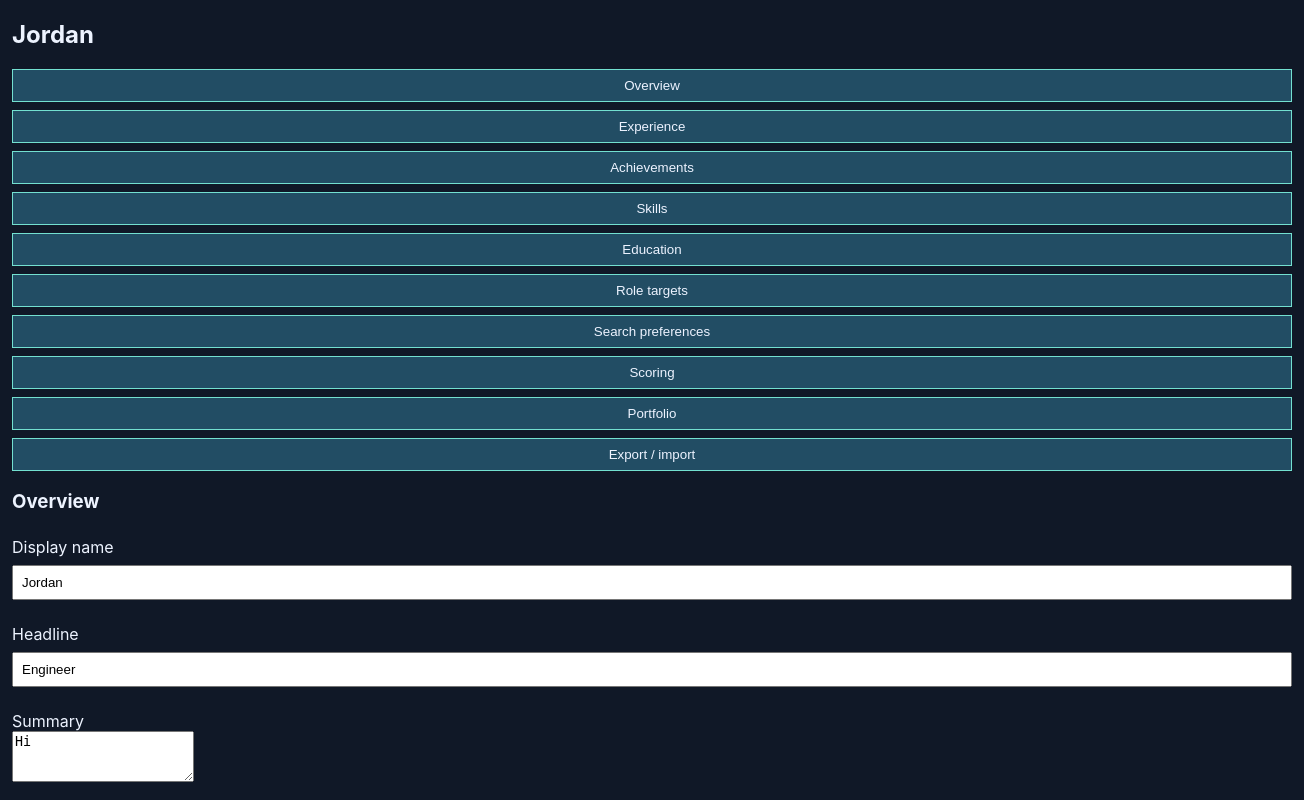
Test: profile editor › scoring errors from the API are shown
Click the tab "Scoring".
click(652, 372)  # box [12, 356, 1292, 389]
(page scrolled)
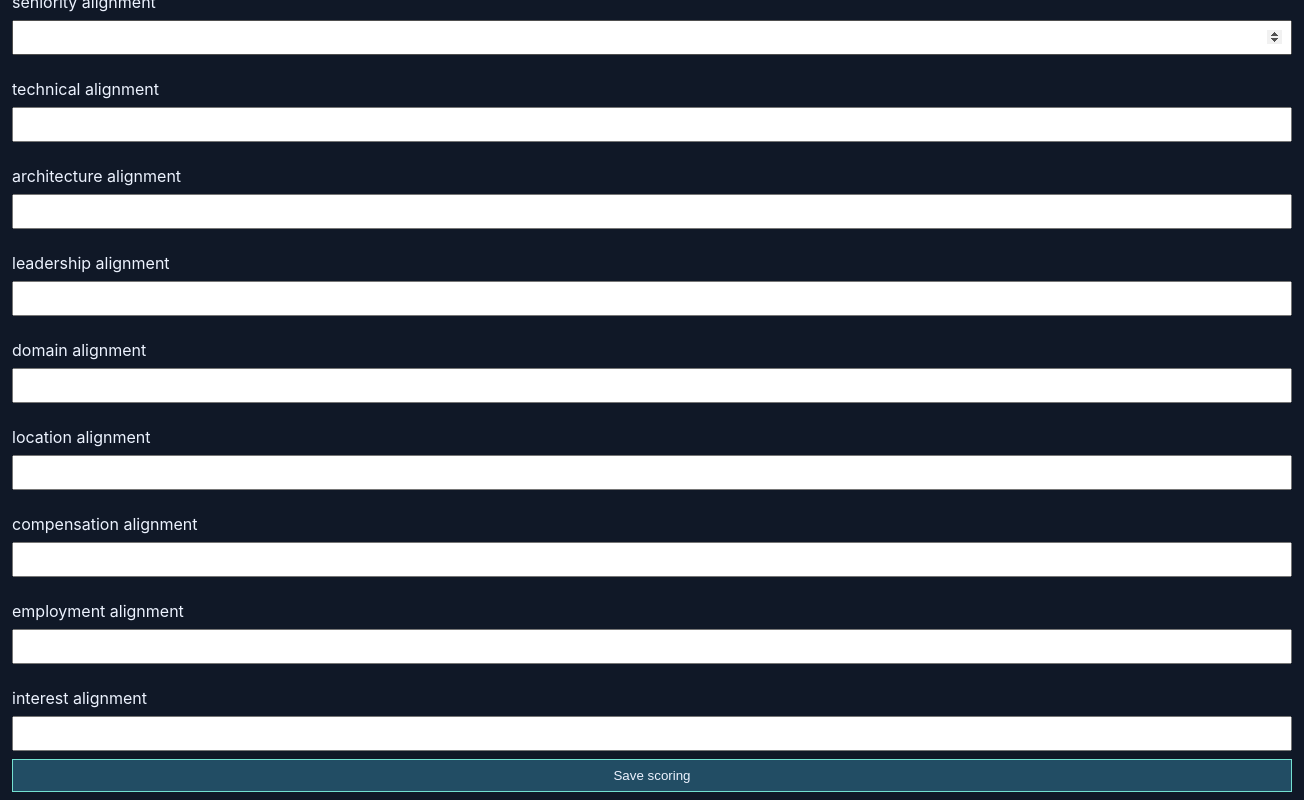
Click the button "Save scoring".
click(652, 776)  # box [12, 759, 1292, 792]
(page scrolled)
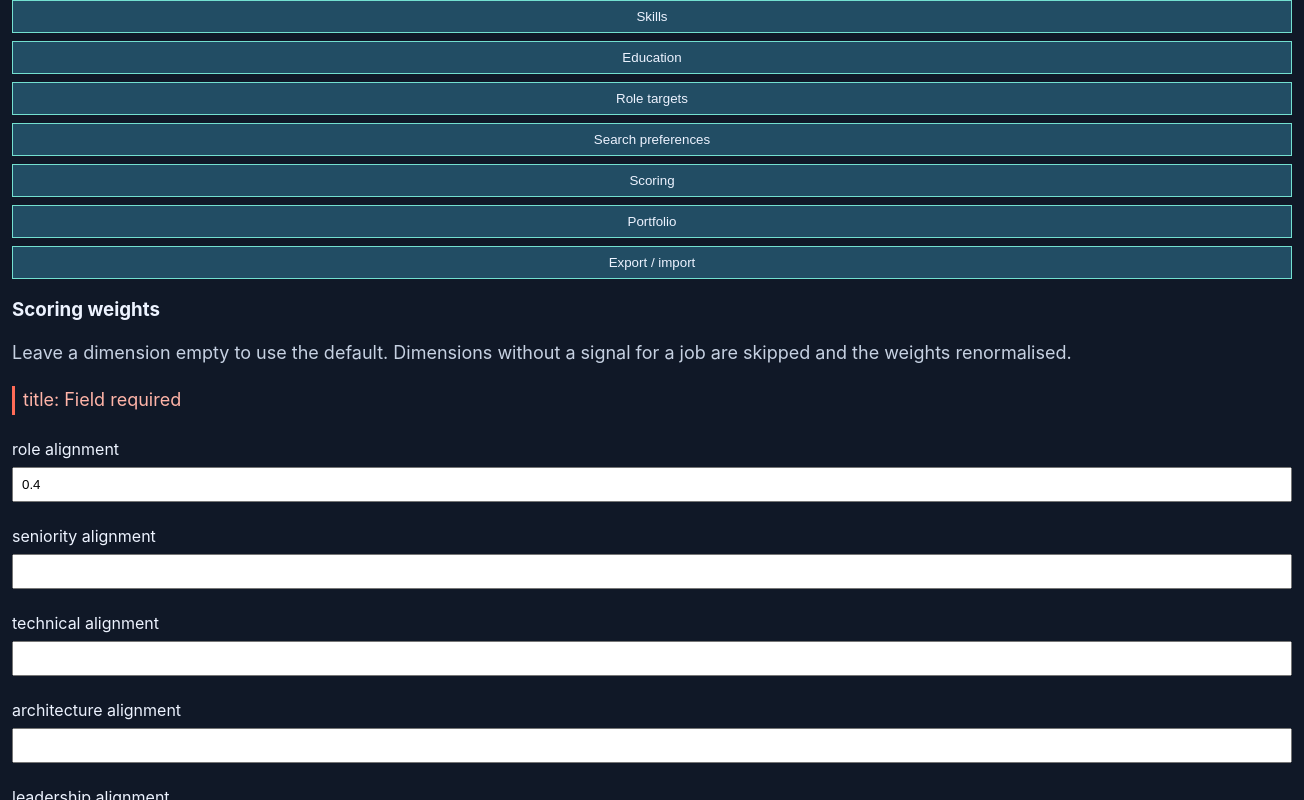
Expected: the message "title: Field required" is shown, [12, 386, 1292, 415]
